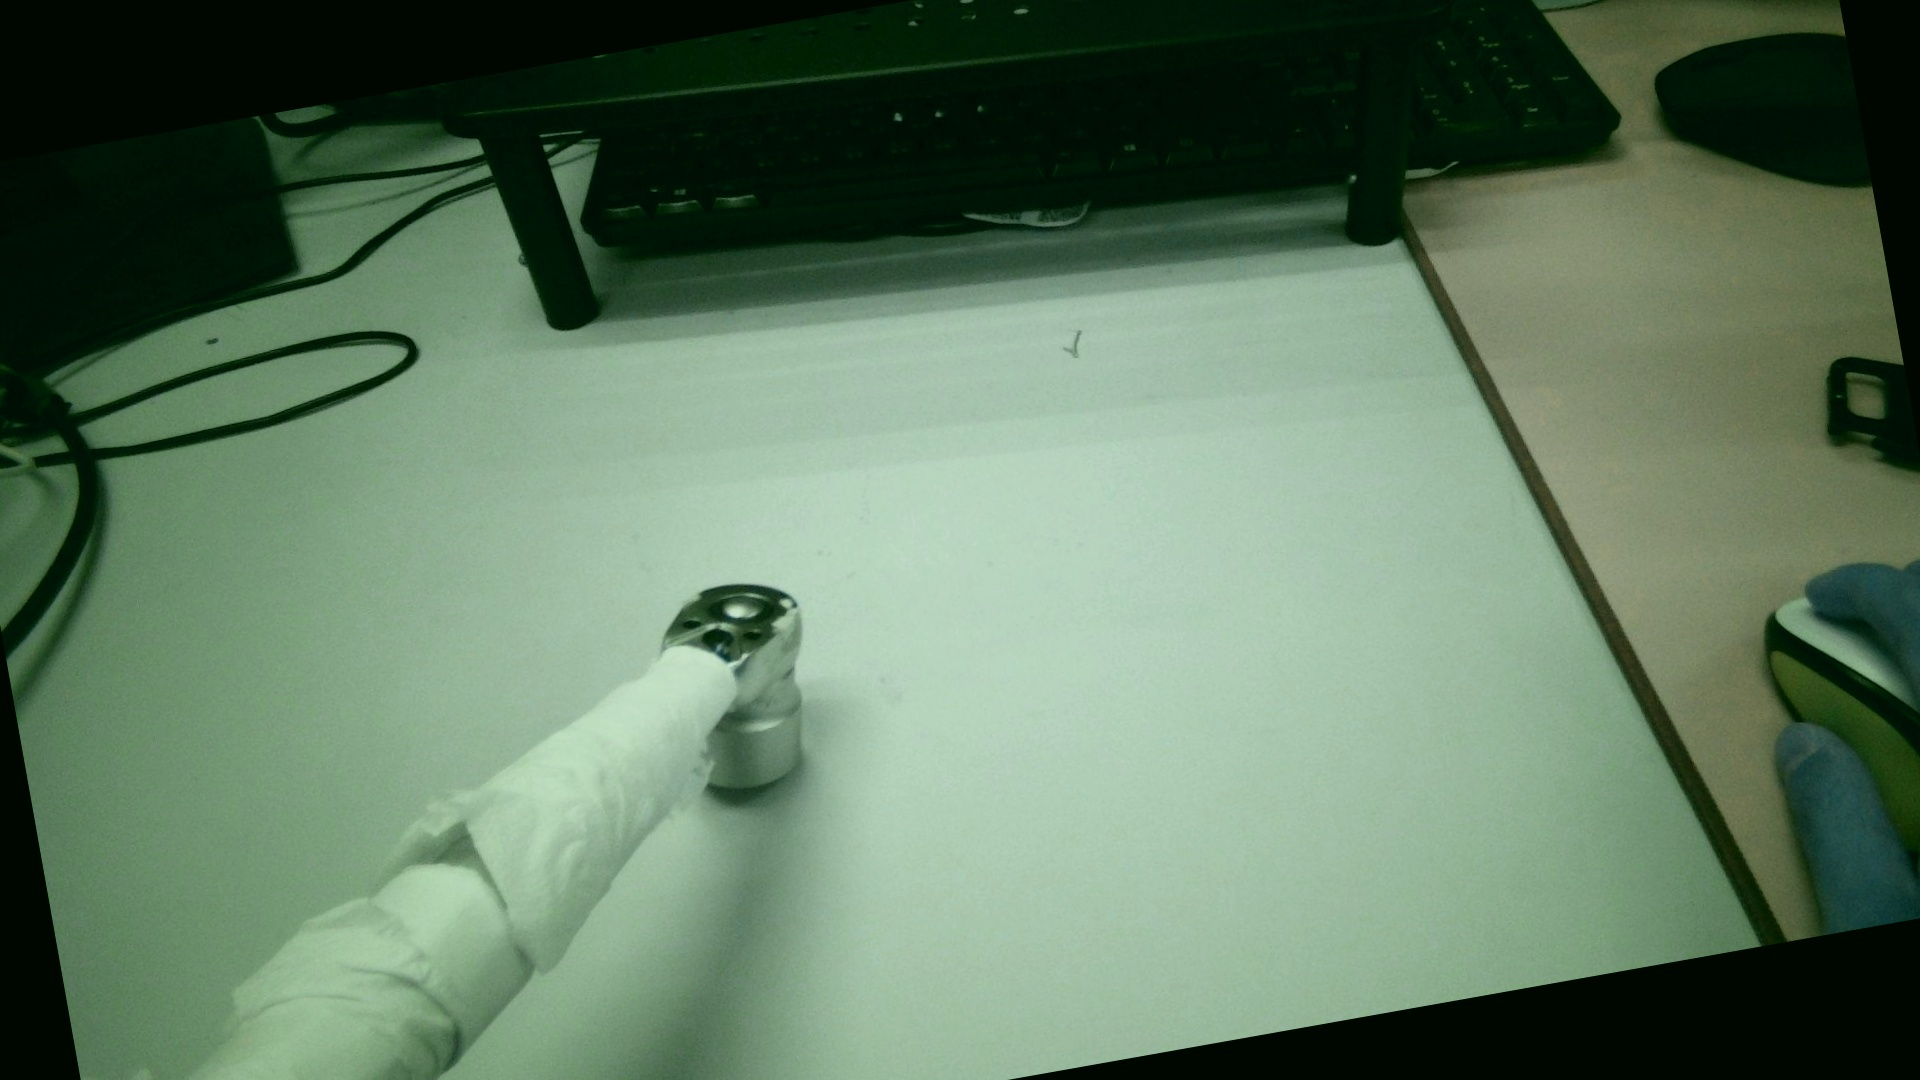wrench: (707, 582, 775, 634)
